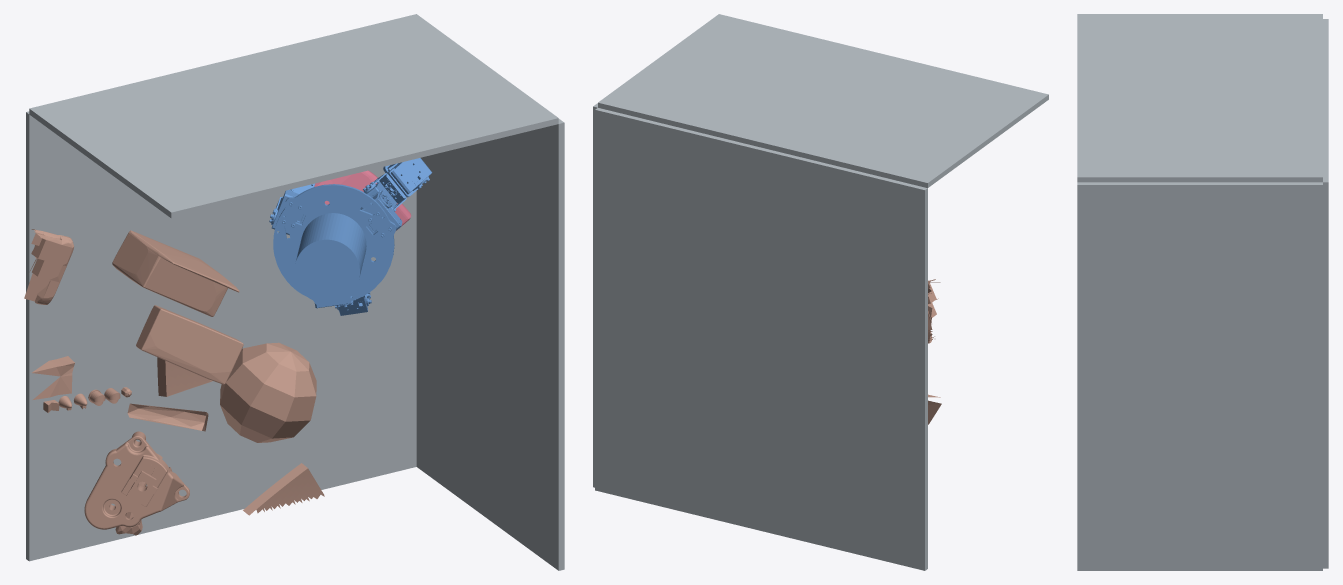
The picture shows the model from 3 angles, left to right: view 1: azimuth 30°, elevation 25°; view 2: azimuth 150°, elevation 25°; view 3: azimuth 270°, elevation 25°; orthographic projection. The views are drawn at different scales.
Parts seen in each view (by area): view 1: environment, hand, obstacle_006, obstacle_007, obstacle_009, obstacle_003, obstacle_001, obstacle_002, obstacle_005, obstacle_000, obstacle_004, obstacle_008 (+1 smaller); view 2: environment; view 3: environment.
Part boxes in pixels (<box>): environment: <box>26,14,564,570</box>; hand: <box>269,158,432,315</box>; obstacle_006: <box>220,342,316,442</box>; obstacle_007: <box>84,431,189,529</box>; obstacle_009: <box>112,230,239,316</box>; obstacle_003: <box>136,305,243,384</box>; obstacle_001: <box>24,229,74,304</box>; obstacle_002: <box>243,463,324,515</box>; obstacle_005: <box>127,403,208,431</box>; obstacle_000: <box>157,357,212,396</box>; obstacle_004: <box>32,356,74,399</box>; obstacle_008: <box>43,387,131,412</box>; environment: <box>593,14,1048,570</box>; environment: <box>1077,14,1328,570</box>.
Size of the model in its own units: 0.5742 by 0.6141 by 0.354.
